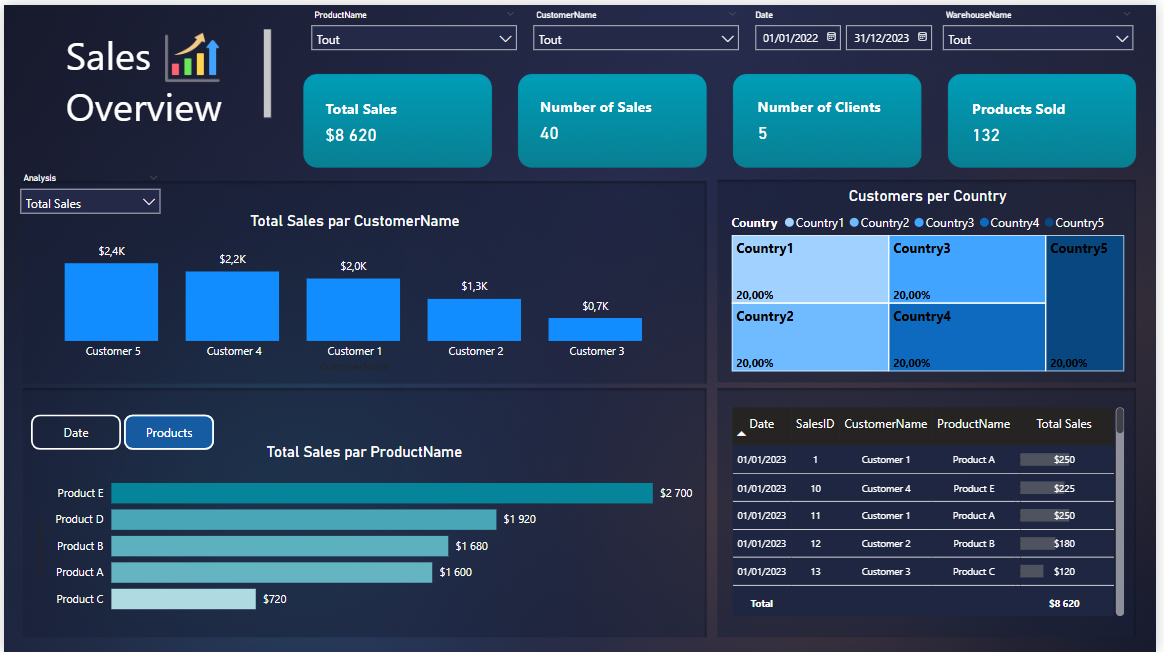

What the dashboard file says about the page in this screenshot:
{"tool":"powerbi","page":{"name":"Sales Overview","canvas":[1280,720],"ordinal":0},"visuals":[{"type":"textbox","box":[63.8,22.4,238.1,115.6],"z":0},{"type":"image","box":[149.2,22.4,119,73.3],"z":1000},{"type":"cardVisual","fields":{"Data":["MeasuresTable.TOTAL_SALES"]},"box":[339.8,79.6,192.3,98.3],"z":2000},{"type":"cardVisual","fields":{"Data":["MeasuresTable.Number of Sales"]},"box":[579,78.9,191.5,98.4],"z":3000},{"type":"cardVisual","fields":{"Data":["MeasuresTable.Number of Clients"]},"box":[819.3,78.9,191.5,98.4],"z":4000},{"type":"cardVisual","fields":{"Data":["MeasuresTable.Products Sold"]},"box":[1057.8,79.8,191.5,98.4],"z":5000},{"type":"slicer","fields":{"Values":["D_PRODUCT.ProductName"]},"box":[331.5,0,247.8,69.4],"z":6000},{"type":"slicer","fields":{"Values":["D_CUSTOMER.CustomerName"]},"box":[579,0,248.3,69.2],"z":7000},{"type":"slicer","fields":{"Values":["D_CALENDAR.Date"]},"box":[822.1,0,247.8,69.4],"z":8000},{"type":"slicer","fields":{"Values":["D_PRODUCT.WarehouseName"]},"box":[1033.2,0,231.5,69.4],"z":9000},{"type":"actionButton","title":"BDATE","box":[30,454.6,100,39.2],"z":13000},{"type":"actionButton","title":"PRODUCT","box":[133.1,454.6,100,39.2],"z":14000},{"type":"actionButton","title":"COLOR - PRODUCT","box":[133.1,454.6,100,39.2],"z":15000},{"type":"clusteredBarChart","fields":{"Category":["D_PRODUCT.Brand","D_PRODUCT.ProductName"],"Y":["MeasuresTable.Total Sales"]},"box":[30,487,741,202],"z":16000},{"type":"clusteredColumnChart","fields":{"Y":["MeasuresTable.Total Sales"],"Category":["D_CUSTOMER.CustomerName"]},"box":[8,230,763,182],"z":17000},{"type":"slicer","fields":{"Values":["z_Clients.z_Clients"]},"box":[8,181,175,62],"z":18000},{"type":"treemap","title":"Customers per Country","fields":{"Group":["D_CUSTOMER.Country"],"Values":["CountNonNull(D_CUSTOMER.CustomerID)"]},"box":[804,202,446,210],"z":19000},{"type":"tableEx","fields":{"Values":["D_CALENDAR.Date","F_SALES.SalesID","D_CUSTOMER.CustomerName","D_PRODUCT.ProductName","MeasuresTable.Total Sales"]},"box":[804,442,446,242],"z":20000}]}

Visuals, with their boxes in screenshot pixels (x1, y1, x2, y2), scaled from the page's 1280x720 canvas onto the 1164x652 screenshot:
textbox: bbox=[58, 20, 275, 125]
image: bbox=[136, 20, 244, 87]
cardVisual - MeasuresTable.TOTAL_SALES: bbox=[309, 72, 484, 161]
cardVisual - MeasuresTable.Number of Sales: bbox=[527, 71, 701, 161]
cardVisual - MeasuresTable.Number of Clients: bbox=[745, 71, 919, 161]
cardVisual - MeasuresTable.Products Sold: bbox=[962, 72, 1136, 161]
slicer - D_PRODUCT.ProductName: bbox=[301, 0, 527, 63]
slicer - D_CUSTOMER.CustomerName: bbox=[527, 0, 752, 63]
slicer - D_CALENDAR.Date: bbox=[748, 0, 973, 63]
slicer - D_PRODUCT.WarehouseName: bbox=[940, 0, 1150, 63]
"BDATE" actionButton: bbox=[27, 412, 118, 447]
"PRODUCT" actionButton: bbox=[121, 412, 212, 447]
"COLOR - PRODUCT" actionButton: bbox=[121, 412, 212, 447]
clusteredBarChart - D_PRODUCT.Brand x D_PRODUCT.ProductName: bbox=[27, 441, 701, 624]
clusteredColumnChart - MeasuresTable.Total Sales x D_CUSTOMER.CustomerName: bbox=[7, 208, 701, 373]
slicer - z_Clients.z_Clients: bbox=[7, 164, 166, 220]
"Customers per Country" treemap: bbox=[731, 183, 1137, 373]
tableEx - D_CALENDAR.Date x F_SALES.SalesID: bbox=[731, 400, 1137, 619]
